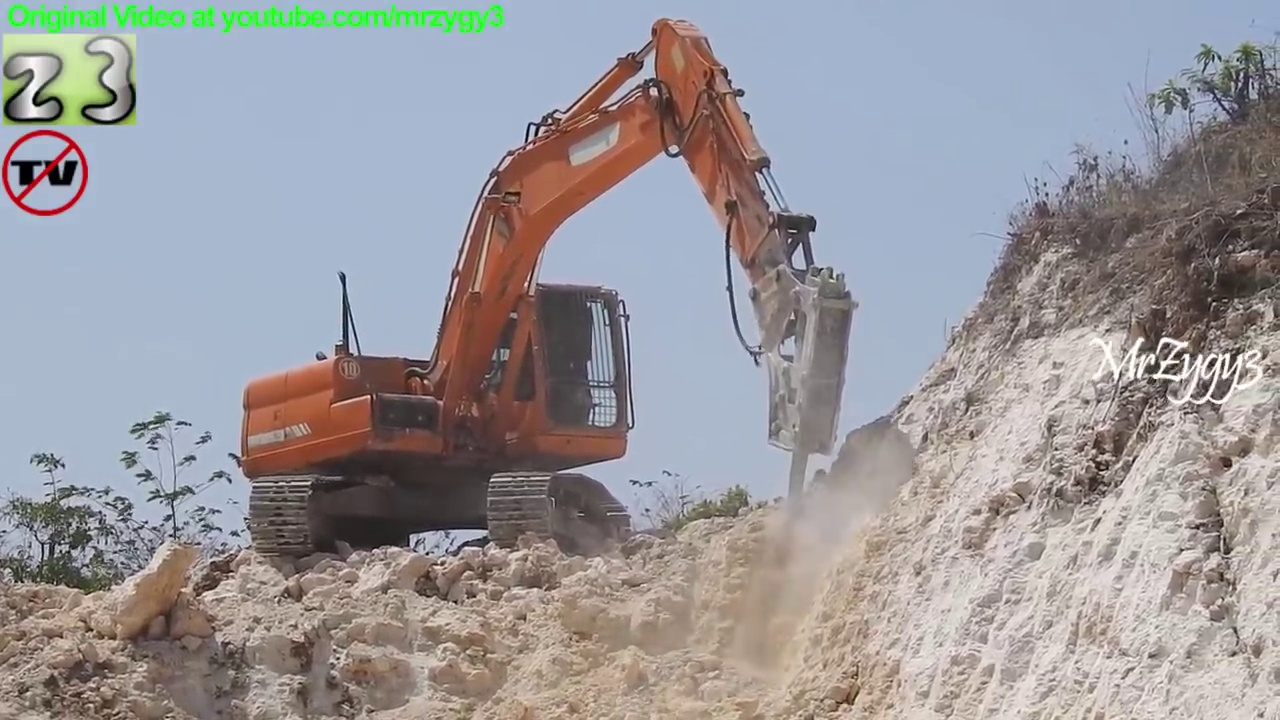excavator breaker: (231, 10, 868, 568)
